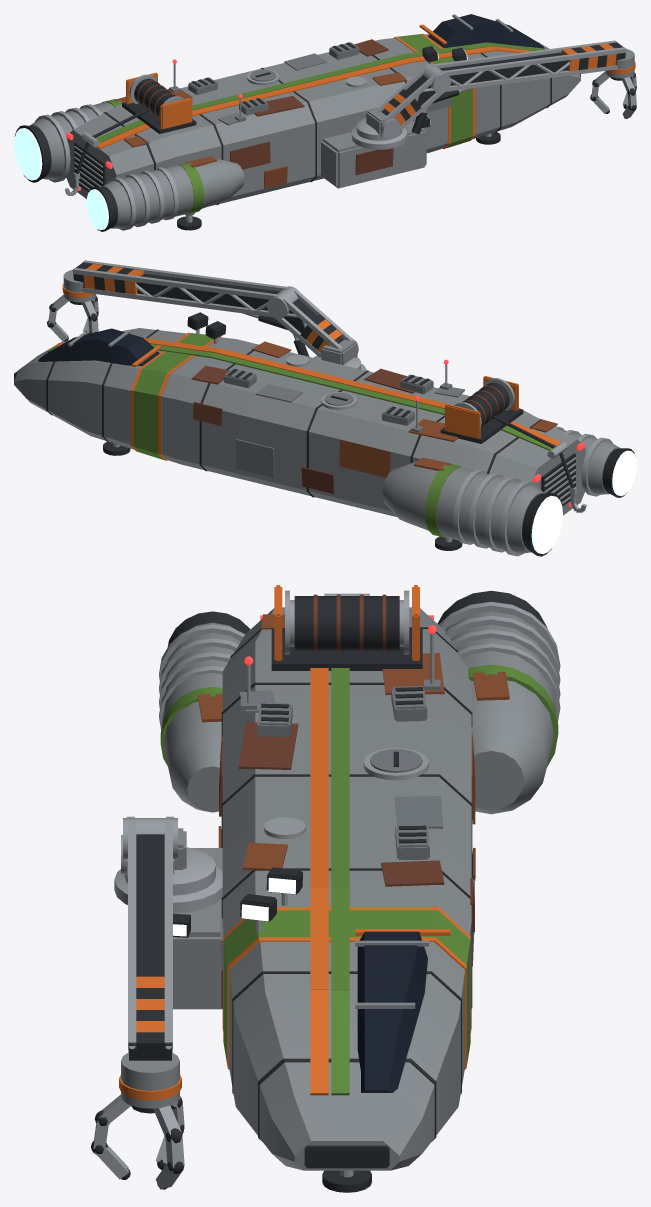
File: hull_salvager.glb
The picture shows the model from 3 angles, top to bottom: view 1: azimuth 30°, elevation 25°; view 2: azimuth 150°, elevation 25°; view 3: azimuth 270°, elevation 25°; orthographic projection. The views are drawn at different scales.
Parts seen in each view (by area): view 1: hull_salvager_hull_plate, hull_salvager_crane_steel, hull_salvager_seam_dark, hull_salvager_stripe_orange, hull_salvager_stripe_green, hull_salvager_rust_dark, hull_salvager_canopy_glass, hull_salvager_grey_patch, hull_salvager_drive_glow, hull_salvager_rust_patch; view 2: hull_salvager_hull_plate, hull_salvager_crane_steel, hull_salvager_seam_dark, hull_salvager_stripe_green, hull_salvager_stripe_orange, hull_salvager_grey_patch, hull_salvager_rust_patch, hull_salvager_canopy_glass, hull_salvager_rust_dark, hull_salvager_drive_glow; view 3: hull_salvager_hull_plate, hull_salvager_seam_dark, hull_salvager_crane_steel, hull_salvager_stripe_green, hull_salvager_stripe_orange, hull_salvager_canopy_glass, hull_salvager_grey_patch, hull_salvager_rust_dark, hull_salvager_rust_patch, hull_salvager_flood_light.
Part boxes in pixels (left/top/right/bottom): hull_salvager_hull_plate: left=30, top=14, right=634, bottom=228; hull_salvager_crane_steel: left=35, top=40, right=636, bottom=230; hull_salvager_seam_dark: left=14, top=42, right=636, bottom=231; hull_salvager_stripe_orange: left=97, top=24, right=635, bottom=149; hull_salvager_stripe_green: left=96, top=34, right=546, bottom=214; hull_salvager_rust_dark: left=137, top=39, right=393, bottom=175; hull_salvager_canopy_glass: left=428, top=14, right=544, bottom=48; hull_salvager_grey_patch: left=169, top=42, right=451, bottom=215; hull_salvager_drive_glow: left=14, top=128, right=108, bottom=230; hull_salvager_rust_patch: left=115, top=72, right=407, bottom=188; hull_salvager_hull_plate: left=14, top=270, right=620, bottom=553; hull_salvager_crane_steel: left=48, top=260, right=613, bottom=556; hull_salvager_seam_dark: left=14, top=262, right=634, bottom=556; hull_salvager_stripe_green: left=47, top=333, right=552, bottom=538; hull_salvager_stripe_orange: left=54, top=264, right=567, bottom=460; hull_salvager_grey_patch: left=223, top=369, right=464, bottom=477; hull_salvager_rust_patch: left=252, top=341, right=557, bottom=477; hull_salvager_canopy_glass: left=38, top=328, right=159, bottom=365; hull_salvager_rust_dark: left=191, top=365, right=504, bottom=493; hull_salvager_drive_glow: left=531, top=450, right=636, bottom=554; hull_salvager_hull_plate: left=121, top=607, right=556, bottom=1170; hull_salvager_seam_dark: left=91, top=590, right=547, bottom=1192; hull_salvager_crane_steel: left=93, top=590, right=560, bottom=1189; hull_salvager_stripe_green: left=160, top=664, right=558, bottom=1095; hull_salvager_stripe_orange: left=119, top=585, right=470, bottom=1100; hull_salvager_canopy_glass: left=357, top=931, right=427, bottom=1092; hull_salvager_grey_patch: left=220, top=679, right=474, bottom=970; hull_salvager_rust_dark: left=219, top=594, right=475, bottom=932; hull_salvager_rust_patch: left=198, top=614, right=509, bottom=870; hull_salvager_flood_light: left=173, top=877, right=295, bottom=936.
Size of the model in its own units: 18.67 by 4.57 by 7.16.
